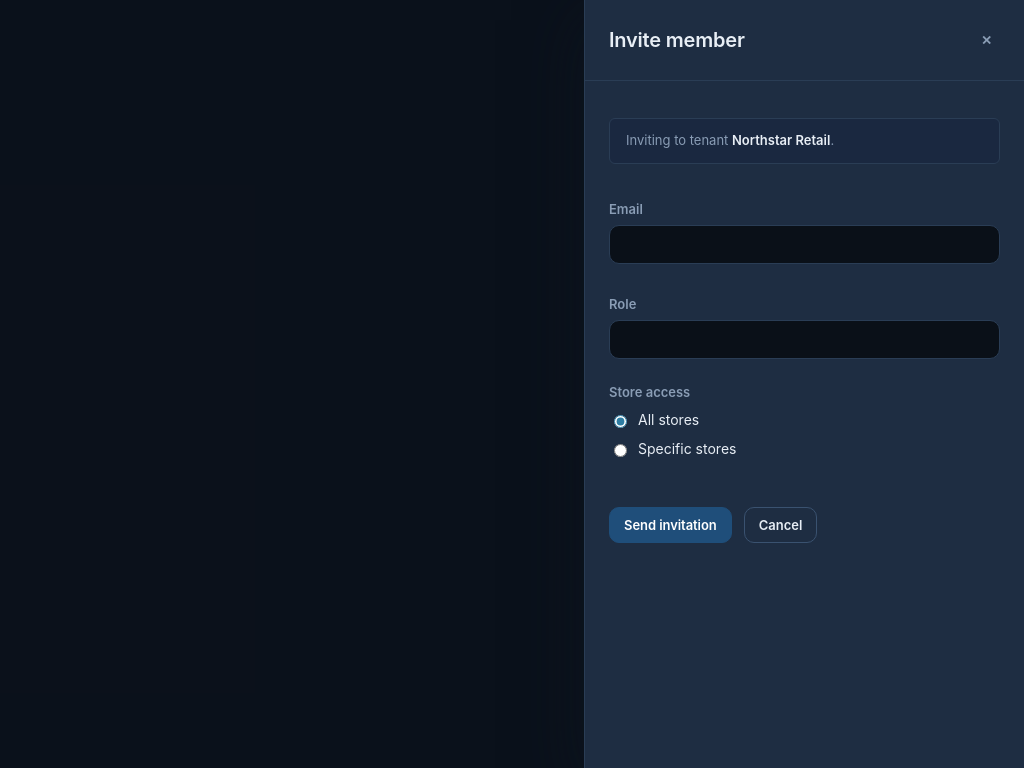
Test: InviteMember outcomes › 403 -> permission banner with request_id
Type "new@northstar.eg" into the field labelled "Email" at (804, 244), box [609, 225, 1000, 264]
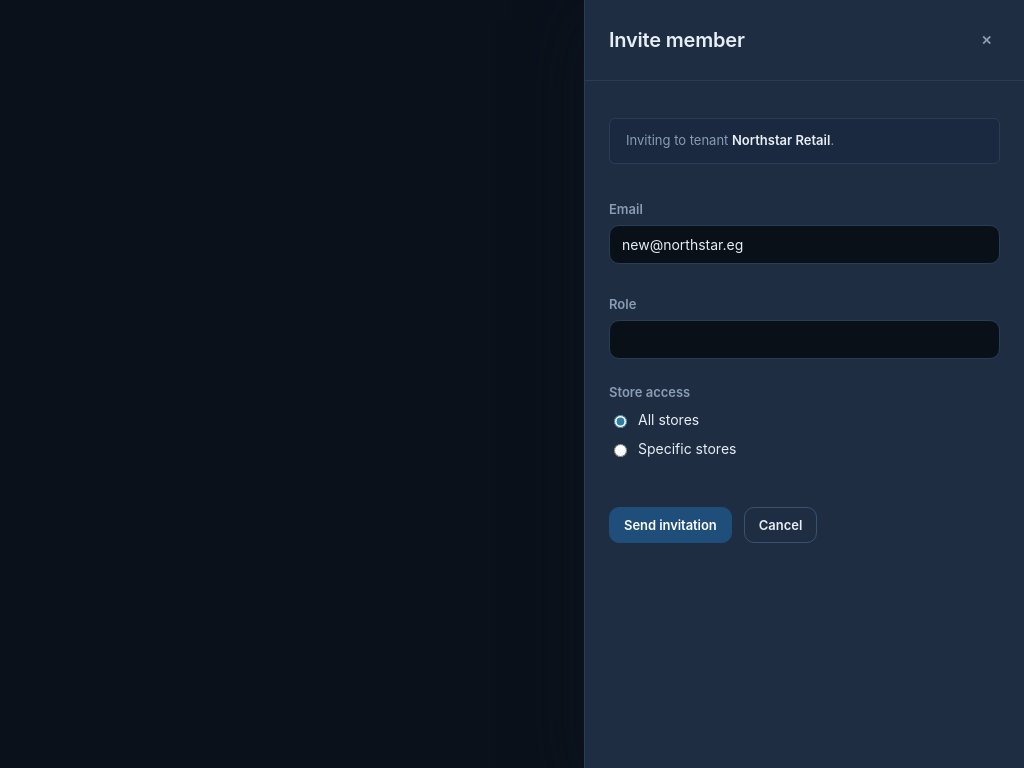
Type "store_staff" into the field labelled "Role" at (804, 340), box [609, 320, 1000, 359]
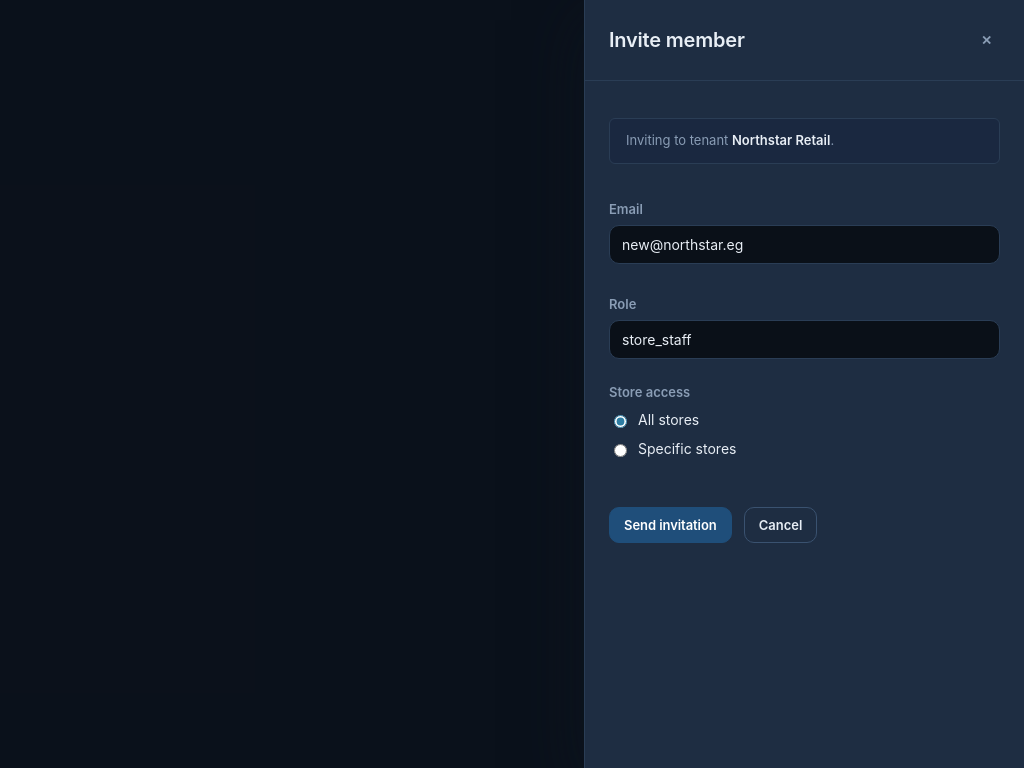
Click the button "Send invitation" at (670, 525), box [609, 507, 732, 543]
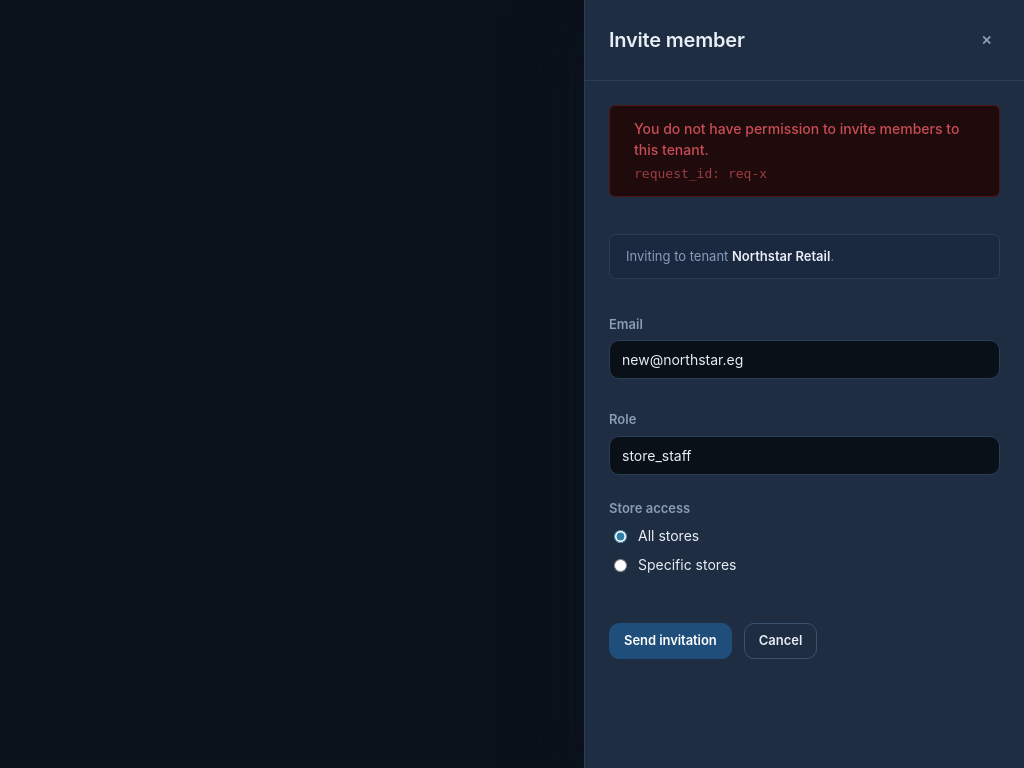
Expected: the message shows "do not have permission", [634, 120, 959, 158]
Expected: the message shows "req-x", [728, 166, 767, 181]
